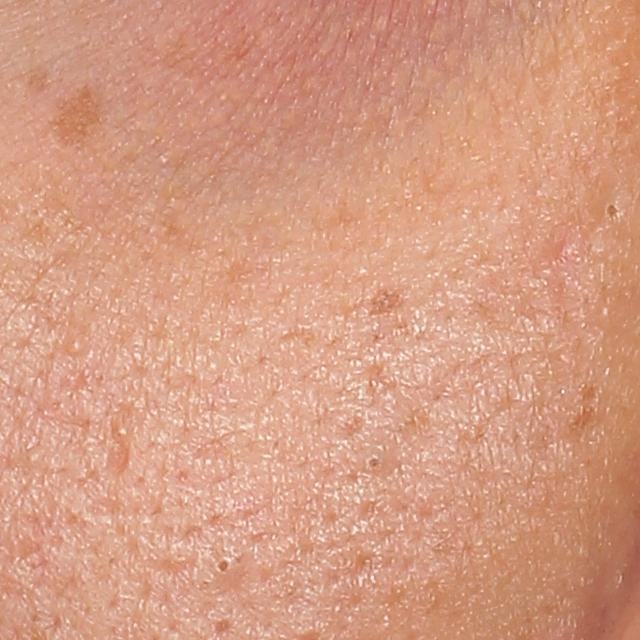atrophic_scar: (104, 435, 136, 485)
comedo: (205, 548, 238, 583), (60, 335, 87, 362), (604, 197, 625, 223)
melasma: (43, 85, 111, 153), (365, 282, 407, 321)
